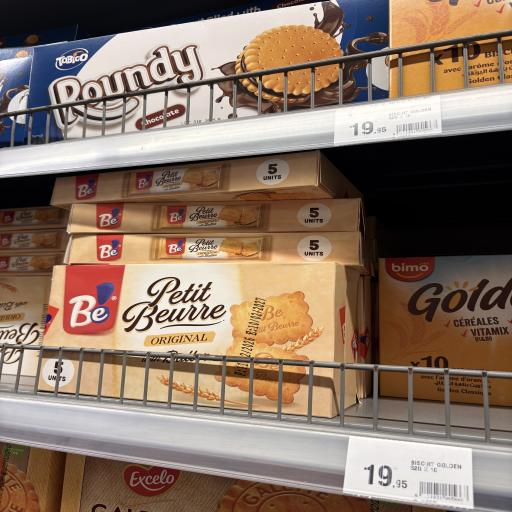petit-beurre: (139, 228, 277, 271), (121, 162, 249, 206)
